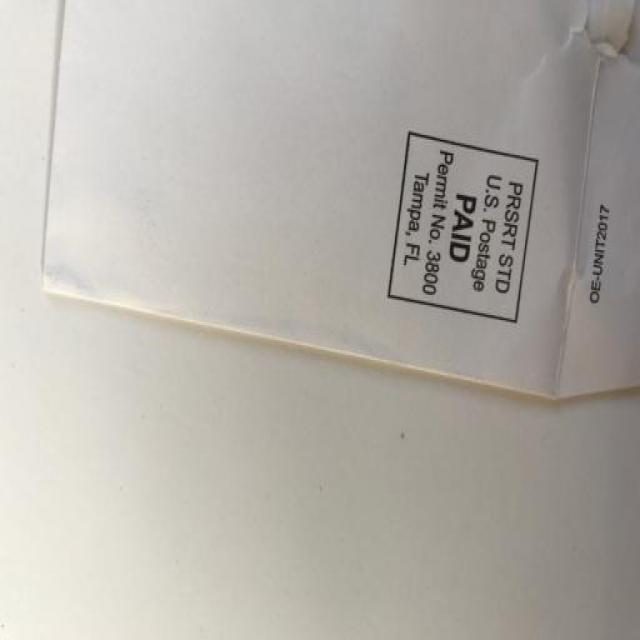paper: (40, 9, 640, 485)
